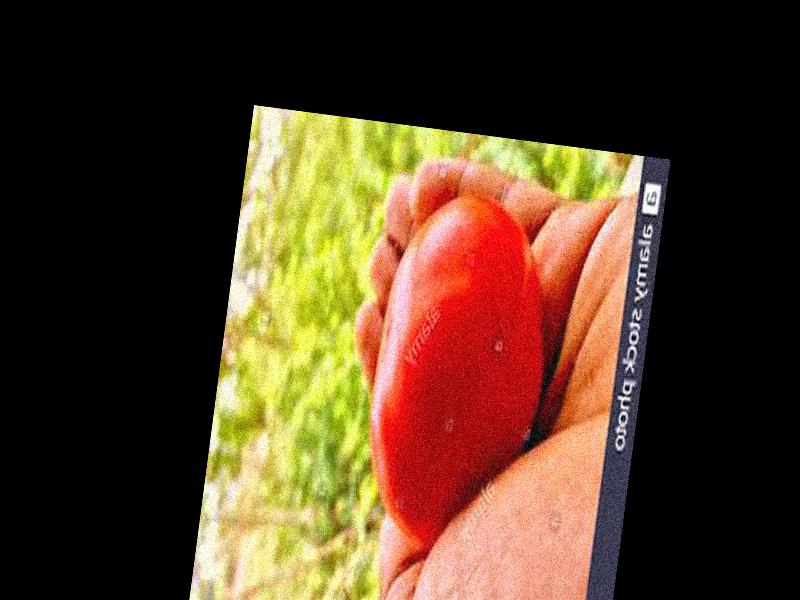Tomato: (356, 187, 563, 551)
